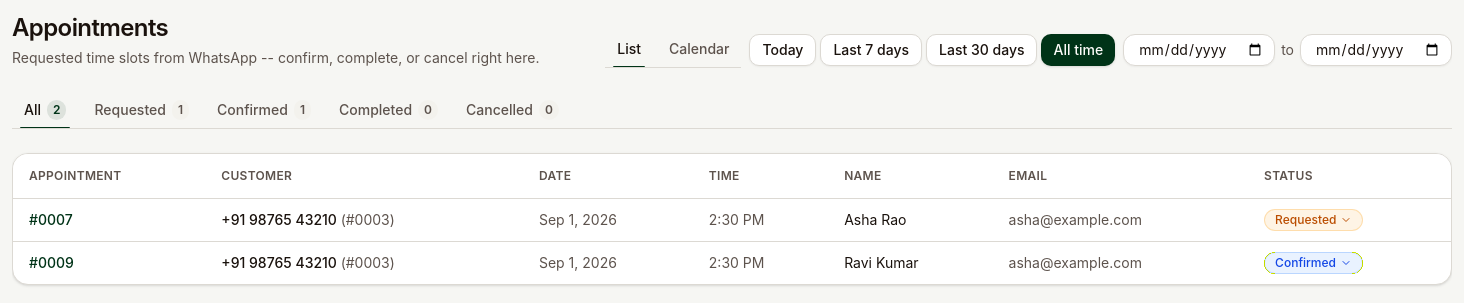
Test: AppointmentsPage › filters appointments by status tab
Expected: the text "Asha Rao" is shown, [828,198,993,241]
Expected: the text "Ravi Kumar" is shown, [828,241,993,284]
Note: Radix's Tabs Trigger selects on `mousedown`, not `click`.
Press the mouse on the tab "Confirmed 1" at (264, 110), box [205,92,323,128]
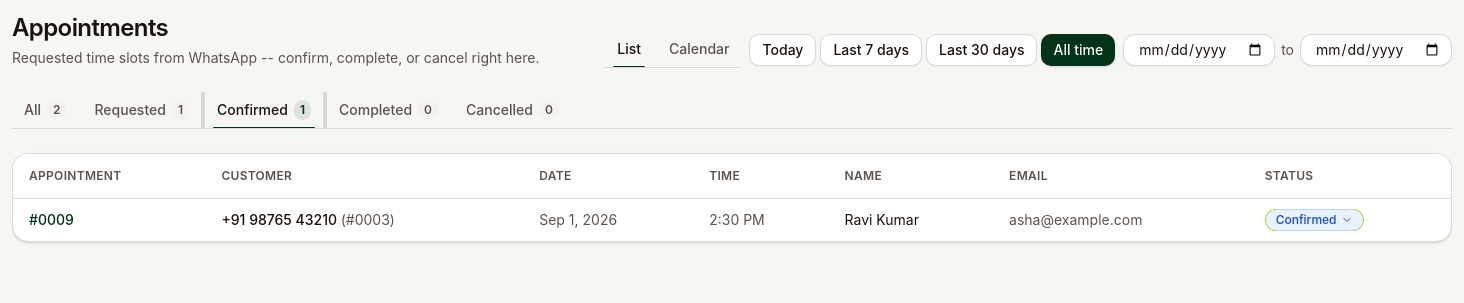
Expected: the text "Ravi Kumar" is shown, [829,198,993,240]
Result: the text "Asha Rao" is gone
